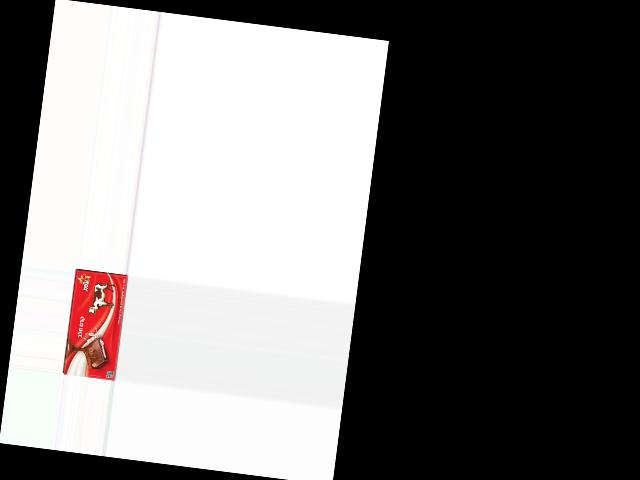chocolate: (62, 266, 129, 380)
